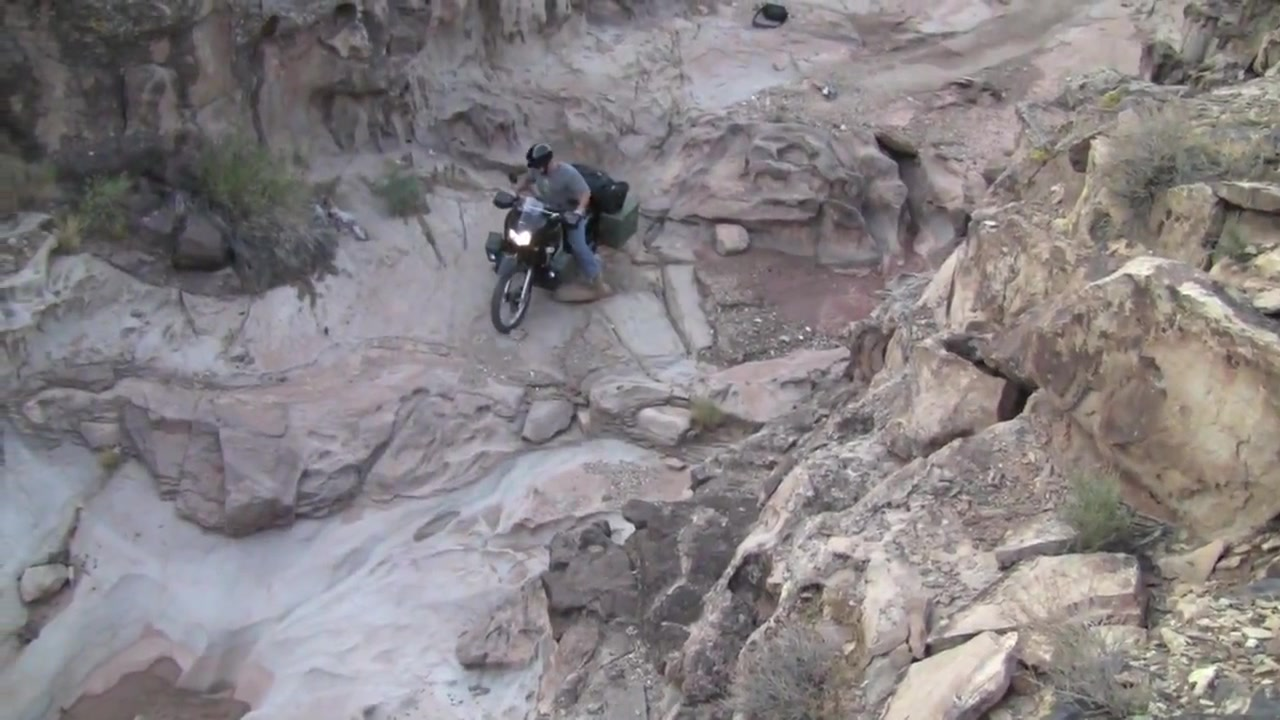motorbike: (484, 182, 625, 336)
